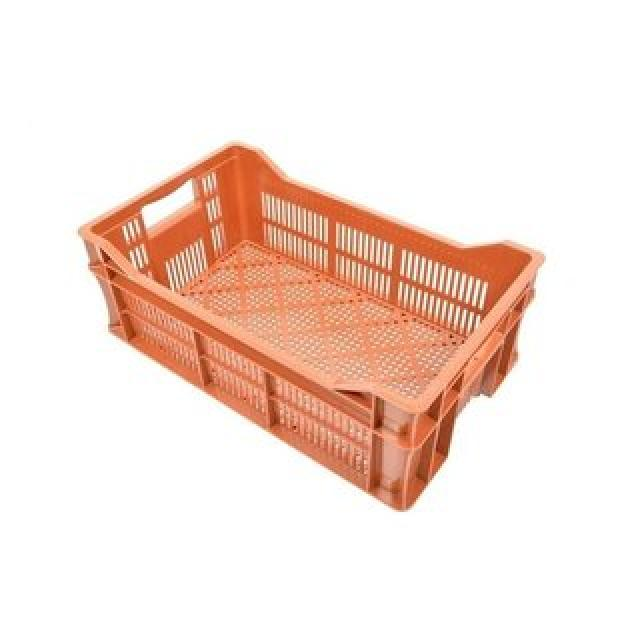basket: (38, 48, 570, 526)
